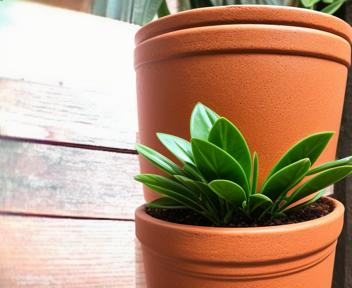pottedplant: (135, 1, 352, 288)
